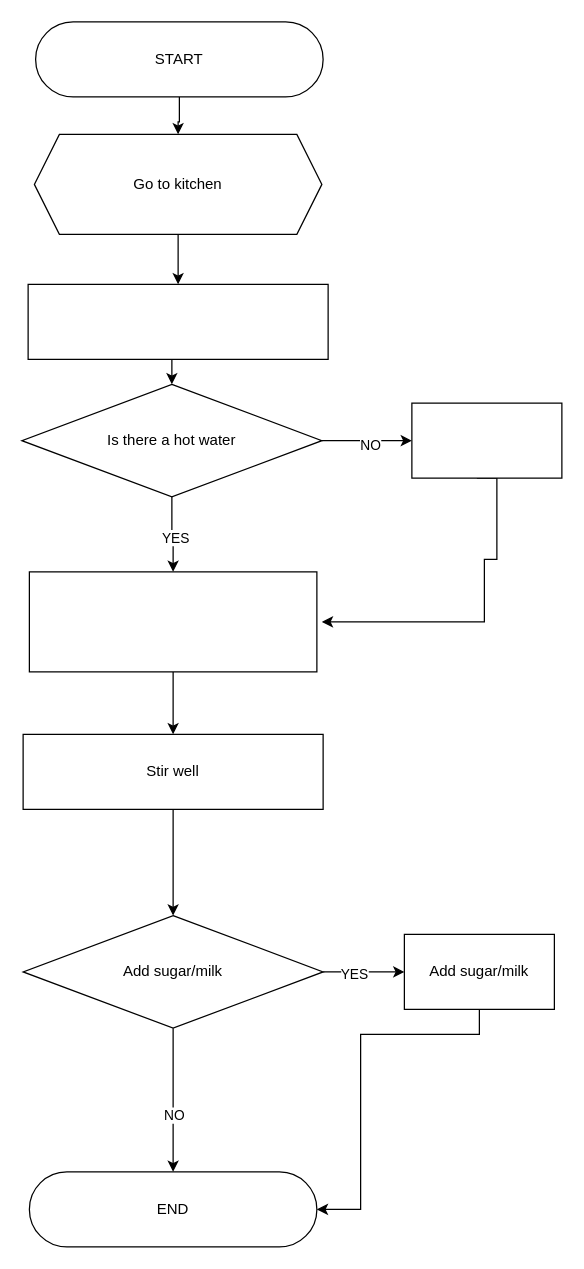
Image size: 584x1269. Some labels were removed from this diagram. The box of each missing label's shape, as (x1, y1, x2, y2) in pixels:
Add coffe powder to a cup: (27, 283, 328, 359)
Boil a water: (411, 402, 562, 478)
Pour water to the cup: (28, 571, 317, 672)
